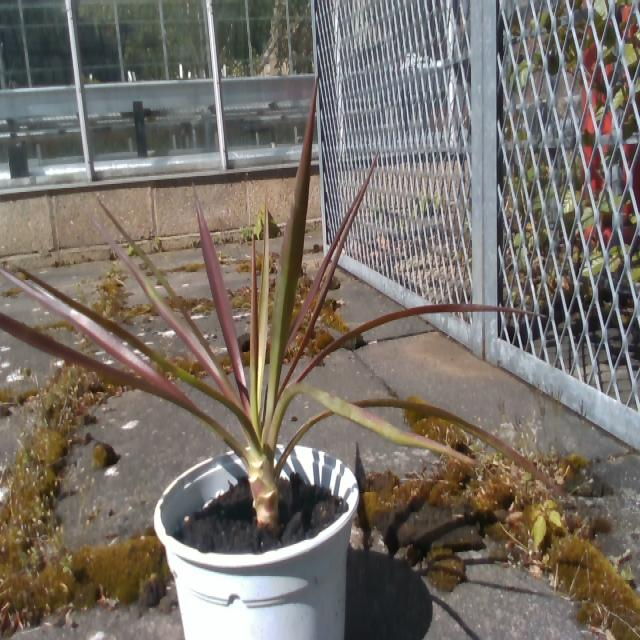Yucca-aloifolia: (18, 267, 247, 425), (90, 215, 238, 397), (0, 268, 185, 397), (0, 313, 212, 423), (356, 400, 567, 496), (98, 199, 214, 359), (298, 304, 536, 380), (278, 196, 363, 397), (287, 155, 377, 344), (273, 383, 475, 465), (267, 84, 316, 412), (194, 187, 247, 408), (256, 227, 269, 387), (250, 240, 259, 429), (294, 413, 324, 443), (213, 364, 221, 380)
